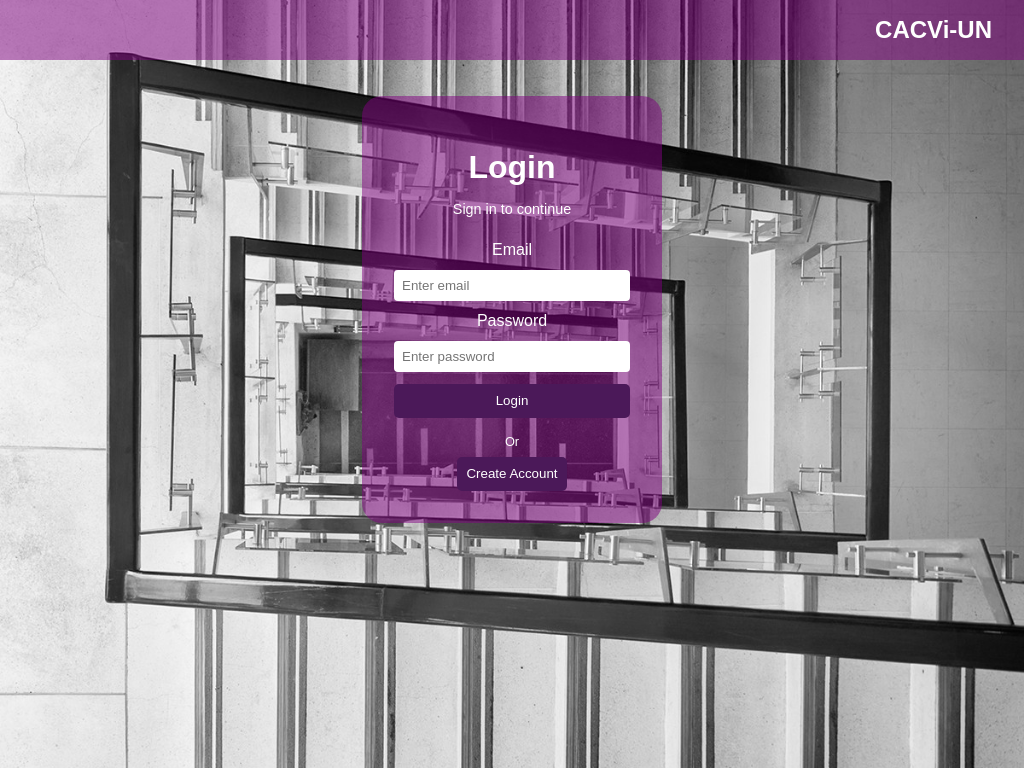
Test: Login Component › muestra error cuando el email no tiene el dominio @unal.edu.co
Type "test@gmail.com" into the field with placeholder "Enter email" at (512, 286), box [394,270,630,301]
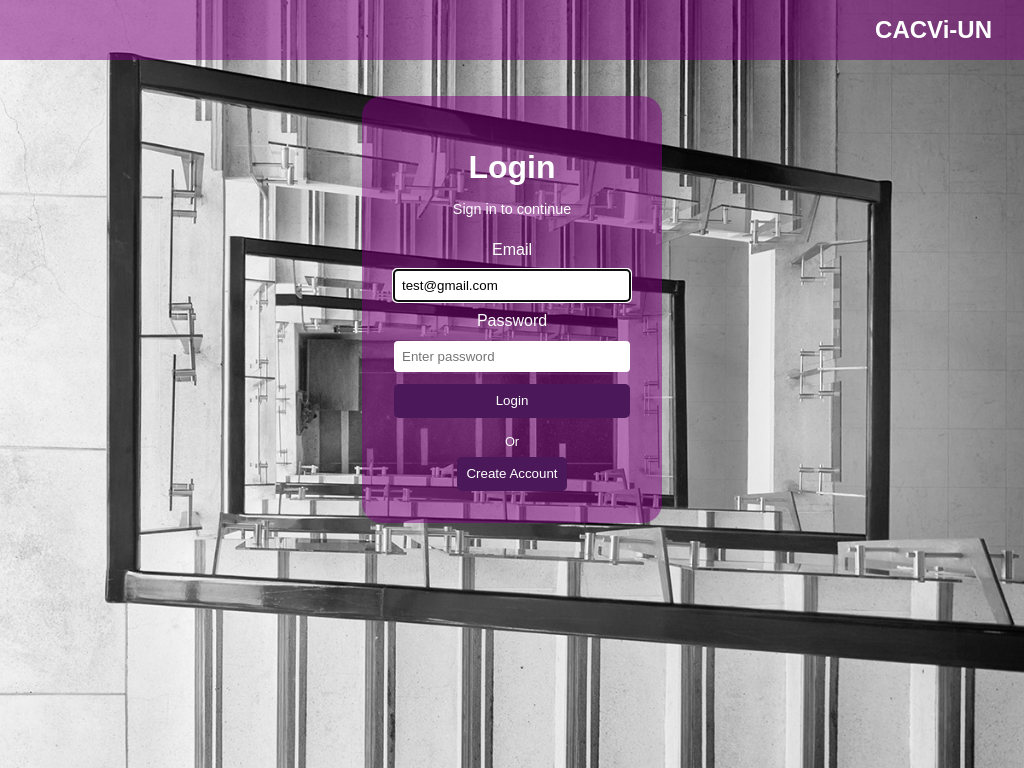
Type "password123" into the password field with placeholder "Enter password" at (512, 357), box [394,341,630,372]
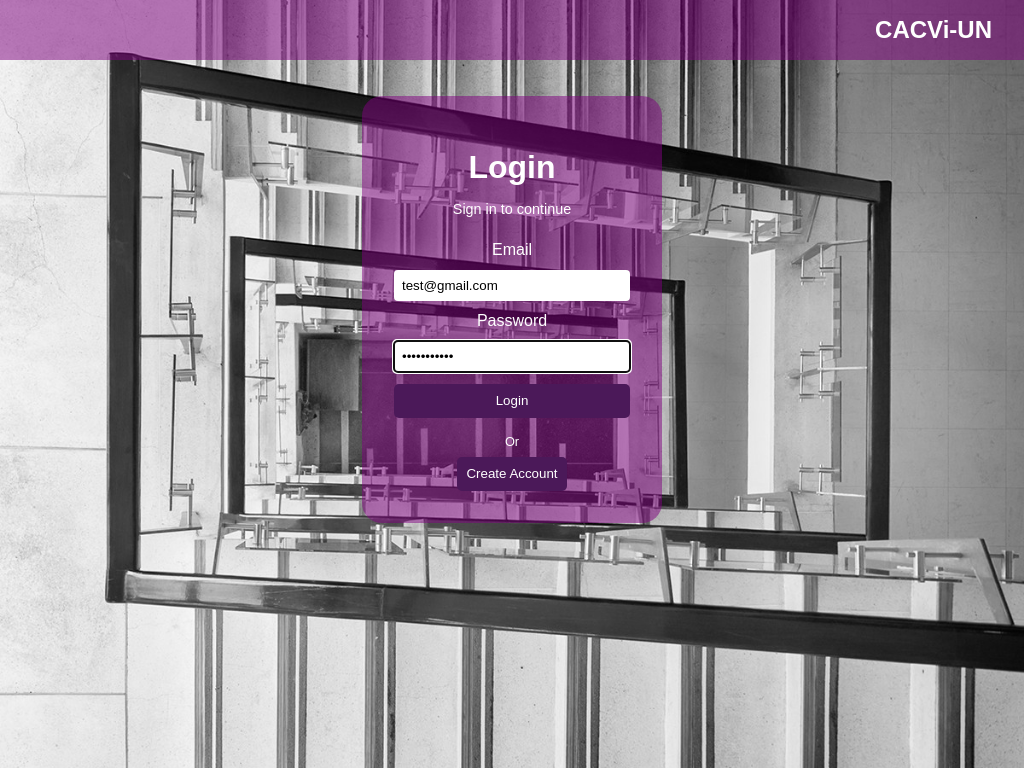
Click the button "Login" at (512, 401), box [394,384,630,418]
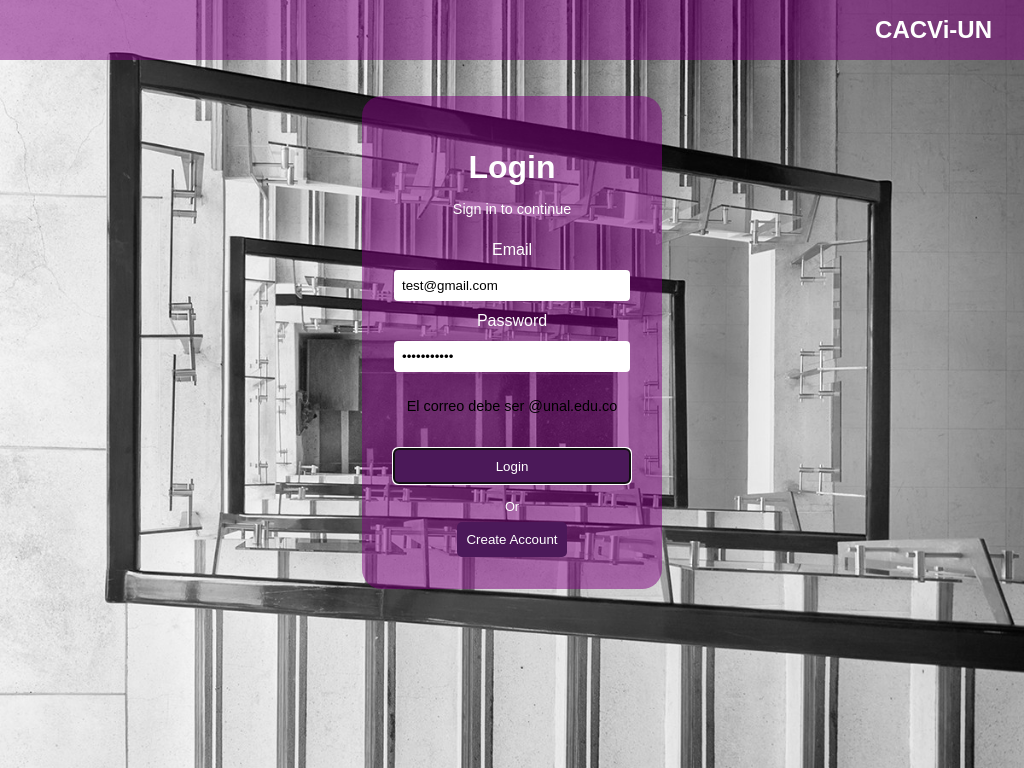
expect the text "El correo debe ser @unal.edu.co" is shown: met, box [394,398,630,414]
